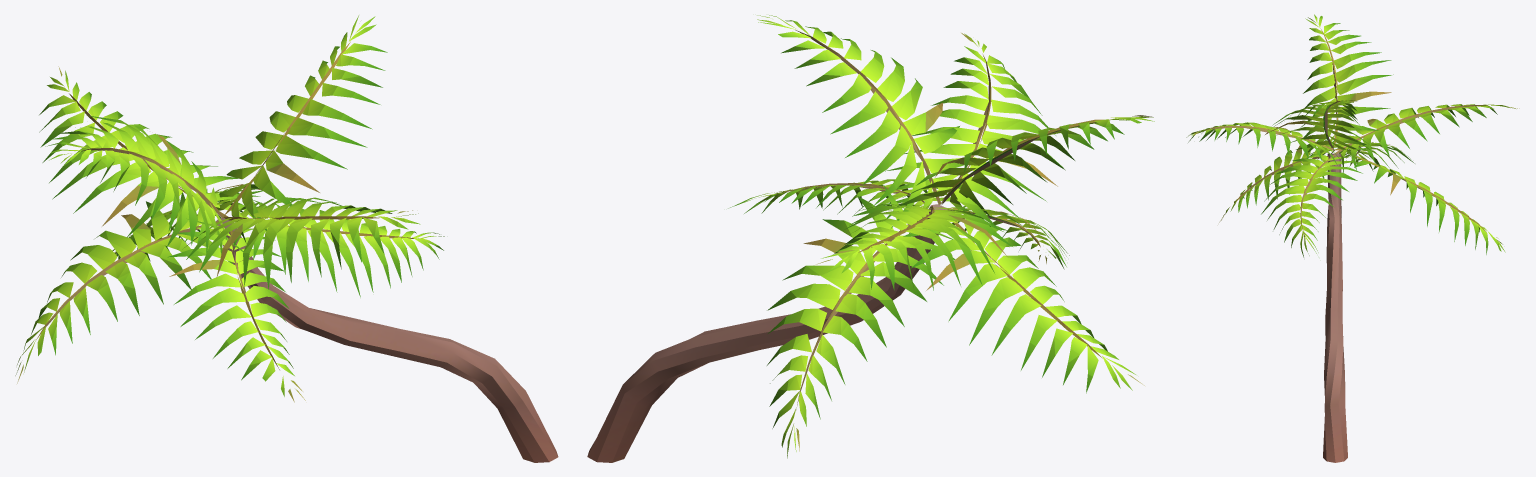
3 views of the same model, side by side, from view 1: azimuth 30°, elevation 25°; view 2: azimuth 150°, elevation 25°; view 3: azimuth 270°, elevation 25° (orthographic). The views are drawn at different scales.
Visible parts, largest first — view 1: TropicalPalmPC; view 2: TropicalPalmPC; view 3: TropicalPalmPC.
Boxes of the visible parts, <box> form: TropicalPalmPC: <box>15,15,558,462</box>; TropicalPalmPC: <box>587,15,1154,462</box>; TropicalPalmPC: <box>1186,14,1519,462</box>.
Bounding box in the file's own units: 14.12 × 11.76 × 11.78.
Materials: 1 (1 with a texture image).
